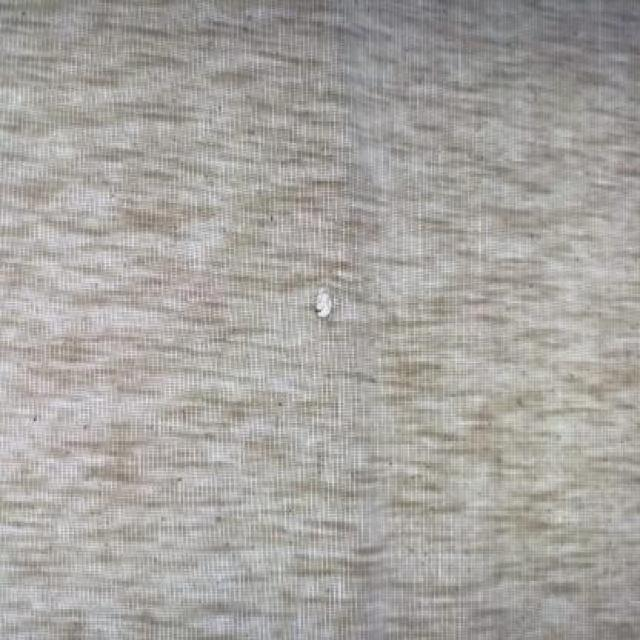other: (284, 264, 368, 358)
